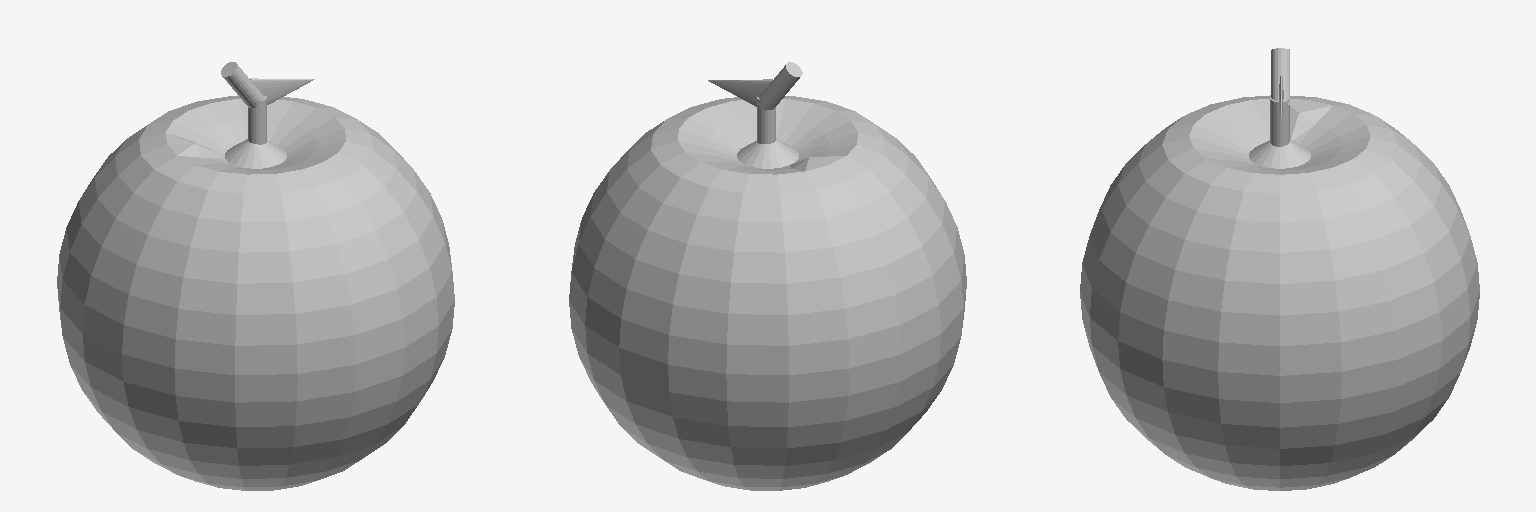
Rendered from AppleGreen.obj.
3 views of the same model, side by side, from view 1: azimuth 30°, elevation 25°; view 2: azimuth 150°, elevation 25°; view 3: azimuth 270°, elevation 25° (orthographic).
Parts seen in each view (by area): view 1: AppleGreen:pSphere2; view 2: AppleGreen:pSphere2; view 3: AppleGreen:pSphere2.
Boxes of the visible parts, <box> form: AppleGreen:pSphere2: <box>57,62,454,490</box>; AppleGreen:pSphere2: <box>569,62,966,490</box>; AppleGreen:pSphere2: <box>1080,48,1479,490</box>.
Size of the model in its own units: 4.83 by 5.27 by 4.83.